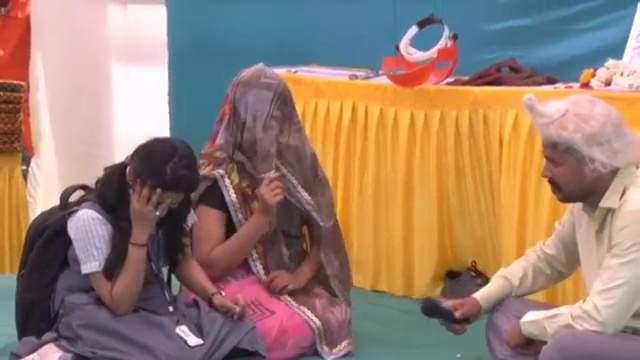helmet_off: (532, 96, 636, 210), (220, 63, 307, 167), (121, 138, 196, 216)
person: (4, 137, 266, 360), (438, 90, 640, 359), (191, 63, 354, 350)
